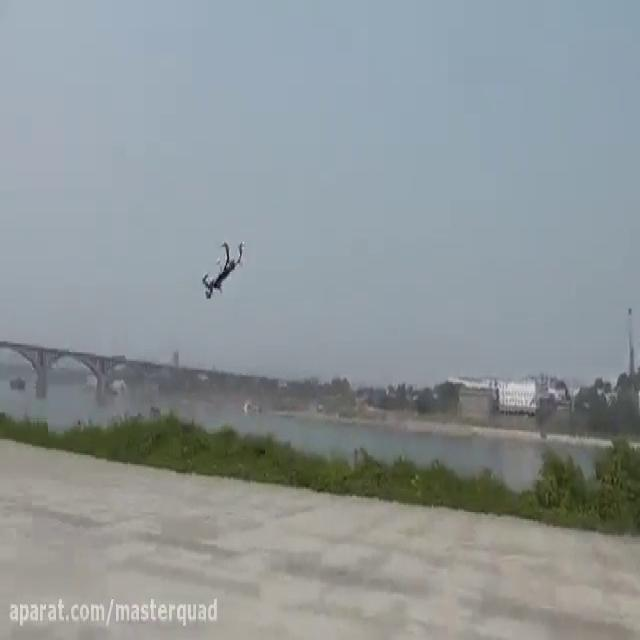drone: (196, 231, 250, 304)
